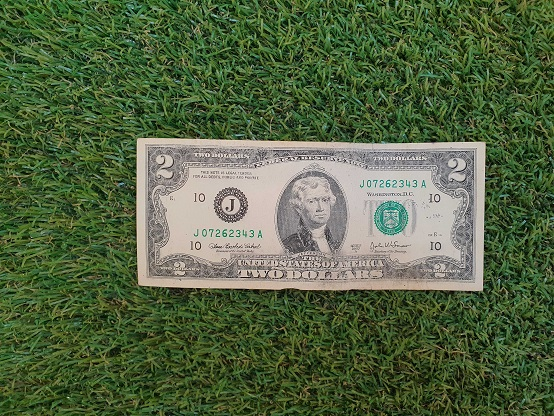2dollar: (136, 136, 485, 293)
